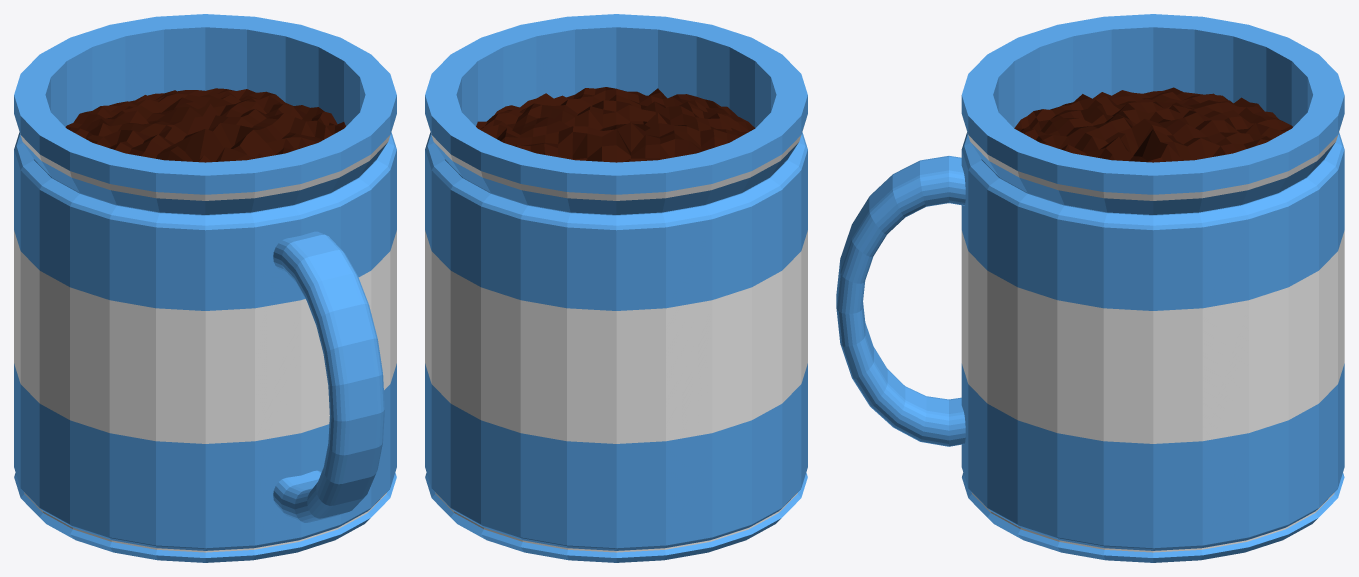
Rendered from cup.glb.
3 renders of one model, left to right at view 1: azimuth 30°, elevation 25°; view 2: azimuth 150°, elevation 25°; view 3: azimuth 270°, elevation 25°, orthographic.
Parts seen in each view (by area): view 1: Circle, Circle.002; view 2: Circle, Circle.002; view 3: Circle, Circle.002.
Part boxes in pixels (left/top/right/bottom): Circle: left=14, top=14, right=396, bottom=562; Circle.002: left=65, top=88, right=345, bottom=162; Circle: left=425, top=14, right=807, bottom=562; Circle.002: left=476, top=87, right=755, bottom=162; Circle: left=836, top=14, right=1344, bottom=562; Circle.002: left=1014, top=87, right=1292, bottom=162.
Bounding box in the file's own units: 2.11 × 2.39 × 2.81.
